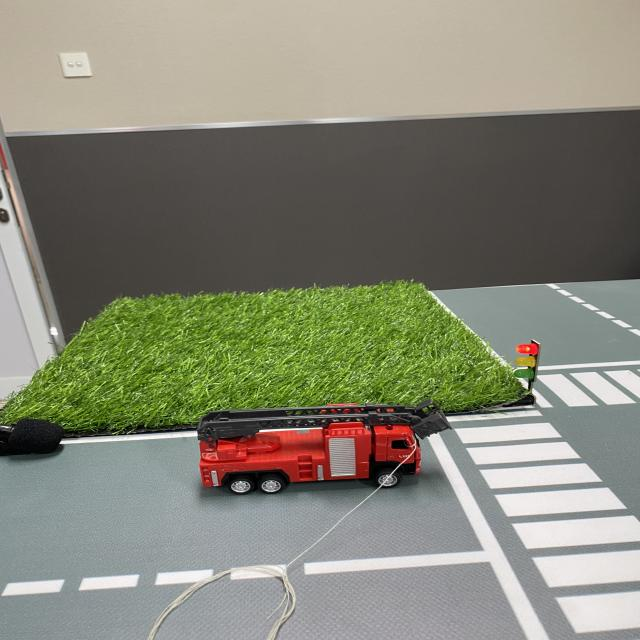Fire Truck: (193, 396, 456, 498)
